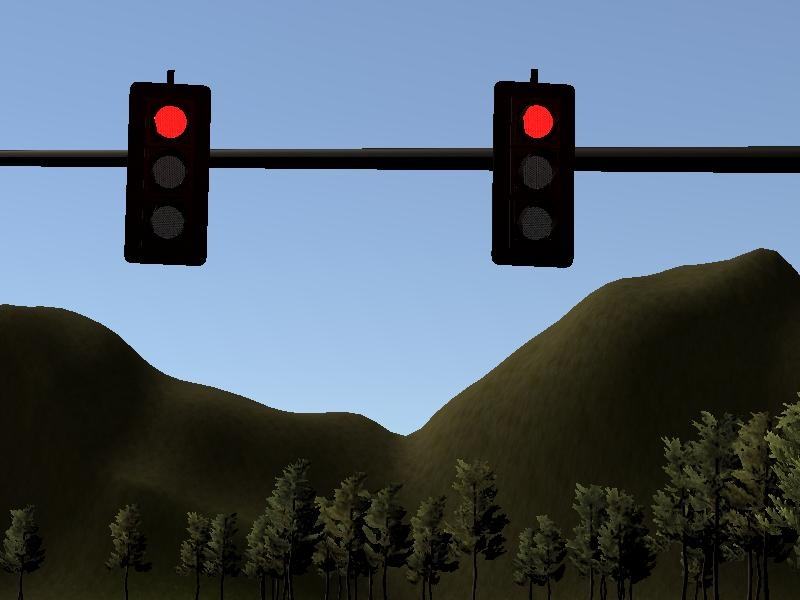red: (120, 72, 215, 264), (489, 78, 577, 268)
